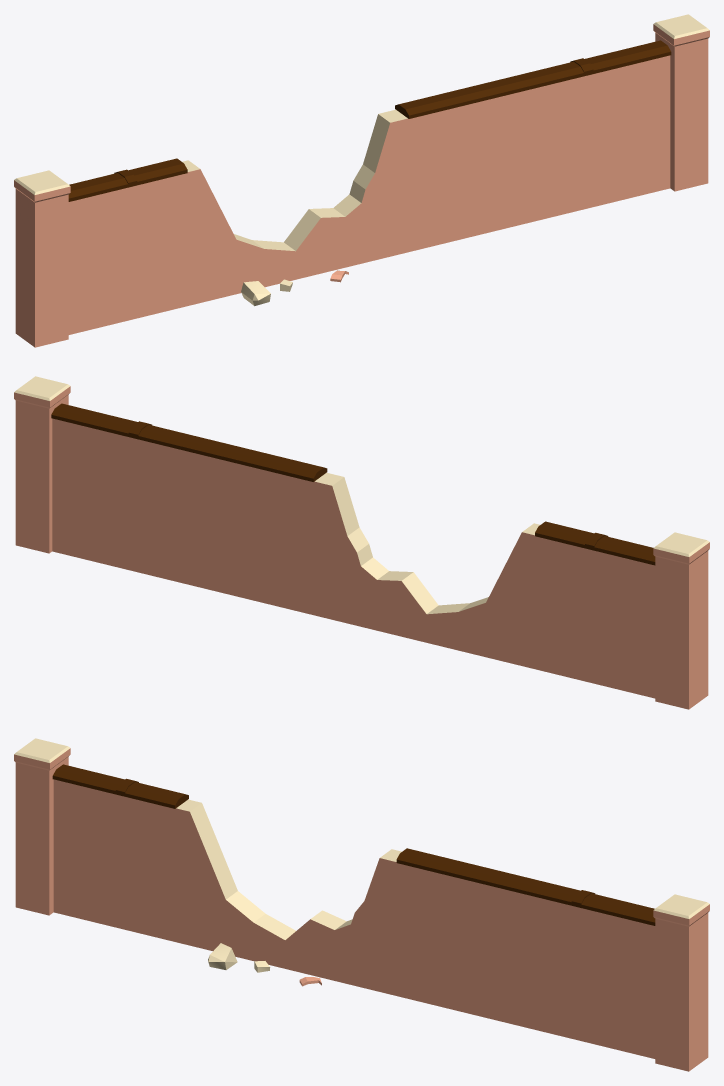
File: broken_wall.fbx
3 views of the same model, one above another, from view 1: azimuth 30°, elevation 25°; view 2: azimuth 150°, elevation 25°; view 3: azimuth 330°, elevation 25° (orthographic).
Parts seen in each view (by area): view 1: Broken_Wall; view 2: Broken_Wall; view 3: Broken_Wall.
Boxes of the visible parts, x1,y1,x2,y2 form: Broken_Wall: (14, 14, 709, 347); Broken_Wall: (14, 376, 709, 709); Broken_Wall: (14, 738, 709, 1071).
Size of the model in its own units: 1003 by 220 by 90.96.
